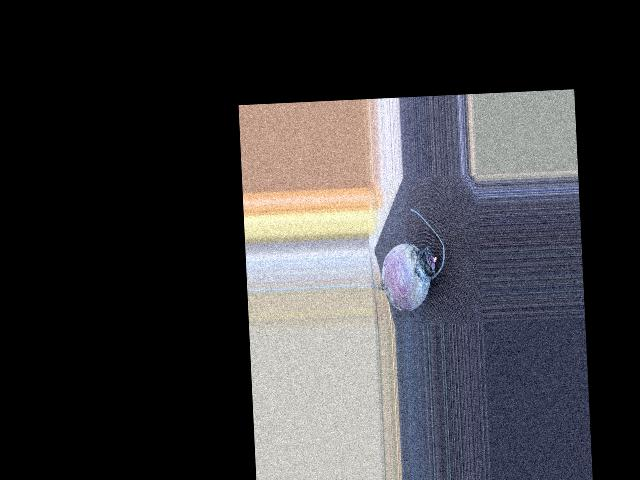beet: (367, 207, 448, 313)
